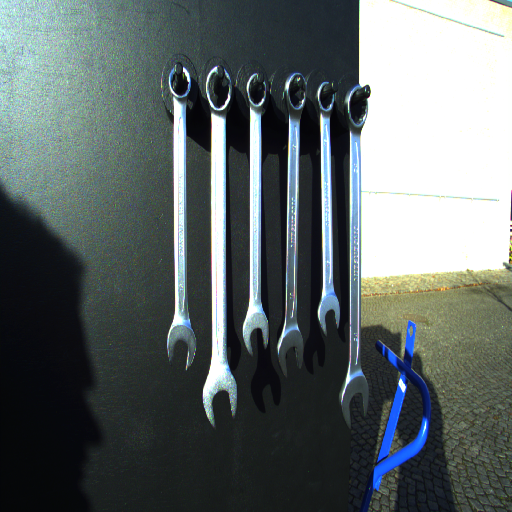bottom: (200, 369, 243, 430), (162, 322, 203, 372), (337, 377, 374, 430), (275, 329, 308, 378), (239, 310, 272, 357), (313, 294, 344, 336)
top: (342, 85, 374, 134), (204, 64, 234, 113), (281, 72, 311, 113), (166, 61, 193, 99), (244, 70, 269, 111), (313, 79, 338, 114)
